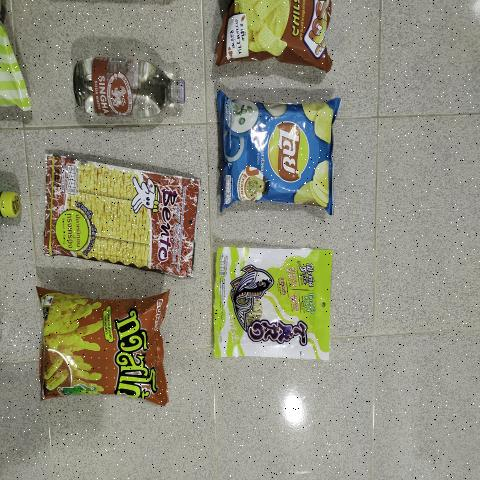bento_red: (45, 158, 194, 272)
lay_blue: (228, 104, 331, 203)
singha_soda: (69, 58, 187, 116)
taro_yellow: (213, 246, 329, 361)
twisco: (42, 297, 163, 402)
